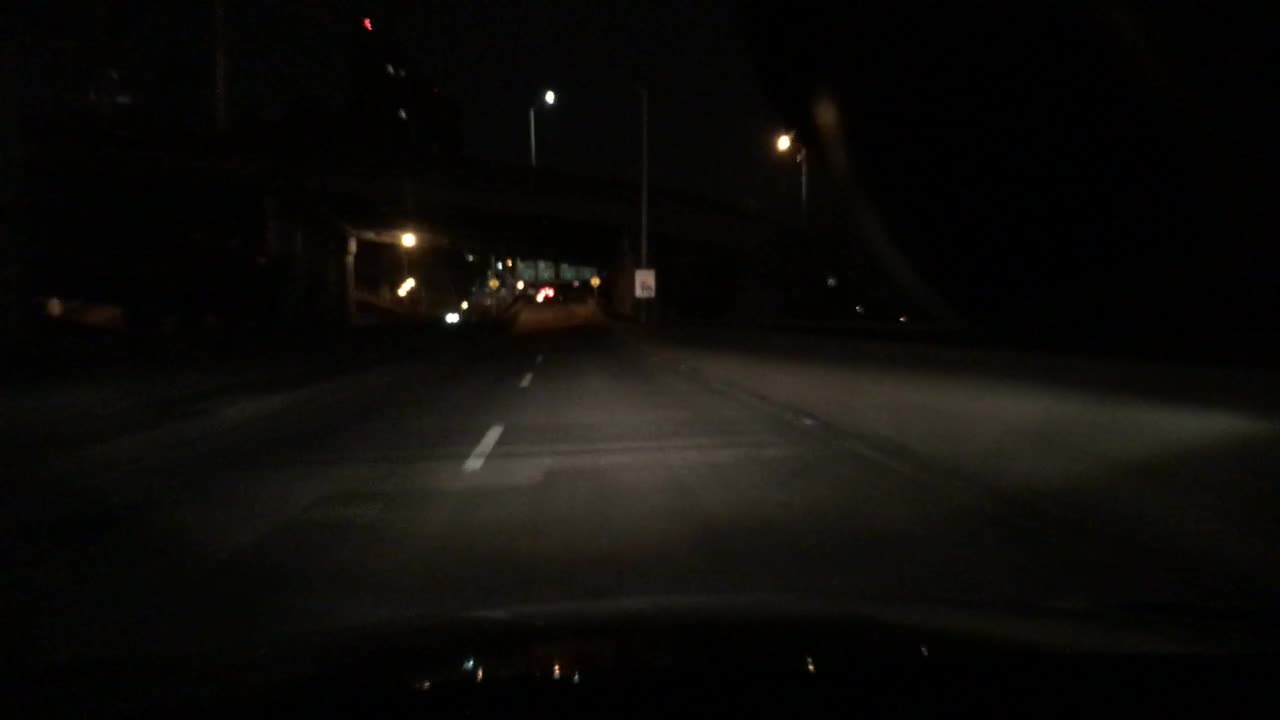car: (536, 285, 558, 302), (442, 309, 462, 326)
traffic sign: (513, 260, 557, 280), (557, 261, 597, 280), (630, 271, 658, 297), (484, 275, 503, 290)
